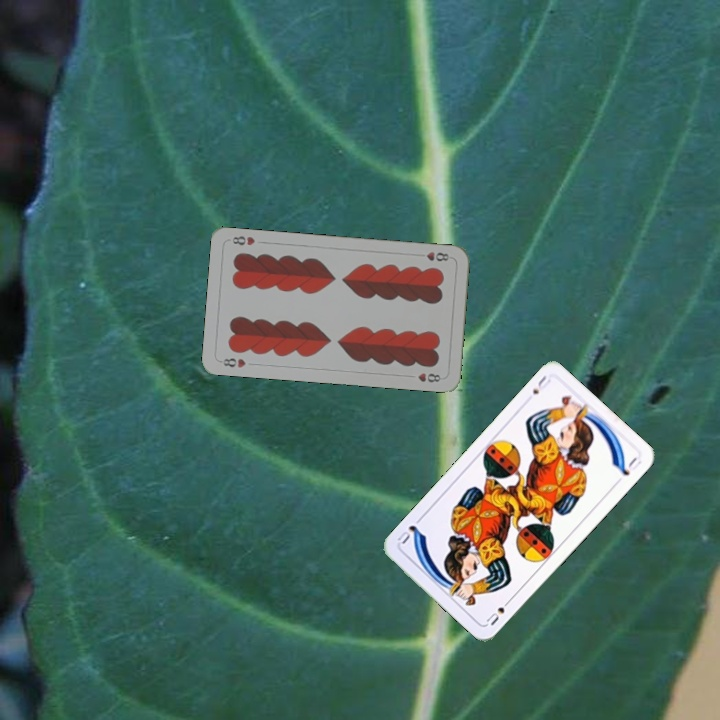H8: (413, 248, 454, 264), (216, 354, 248, 370)
SU: (482, 594, 514, 628), (528, 371, 554, 397)
